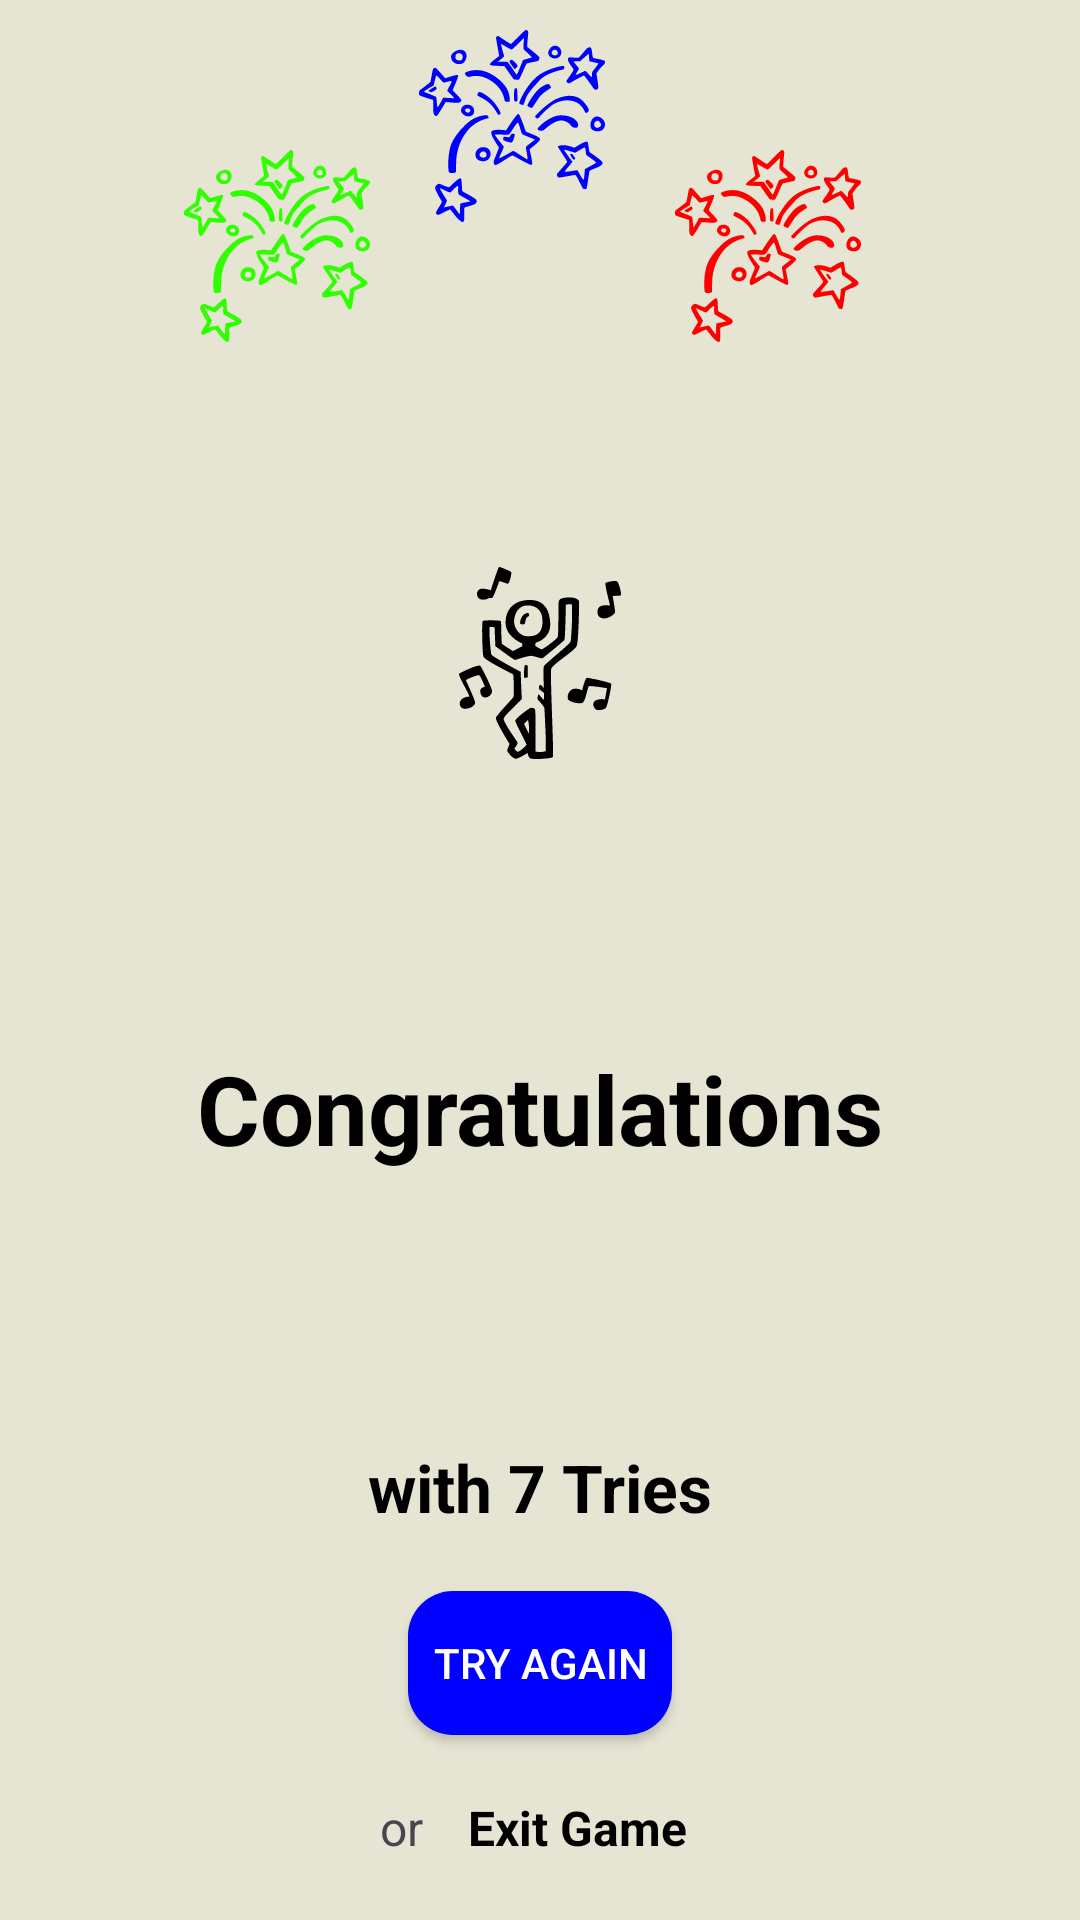

Named icons in this screenshot (1080 x 1920) and their centers, (x=x, y=y):
dancer: (x=540, y=663)
firework: (x=512, y=126), (x=277, y=246), (x=768, y=246)
